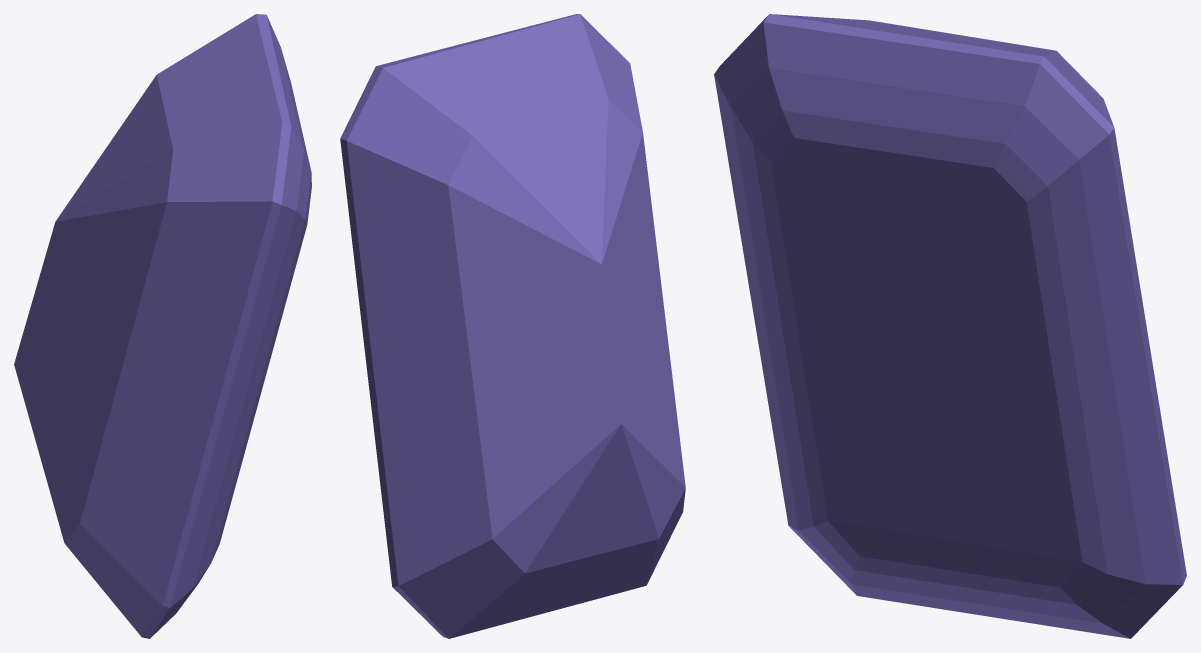
Rendered from TR4_8shapes_Emerald_Classic_Stone.001 2.glb.
3 renders of one model, left to right at view 1: azimuth 30°, elevation 25°; view 2: azimuth 150°, elevation 25°; view 3: azimuth 270°, elevation 25°, orthographic. The views are drawn at different scales.
Parts seen in each view (by area): view 1: TR4_8shapes_Emerald_Classic_Stone.001; view 2: TR4_8shapes_Emerald_Classic_Stone.001; view 3: TR4_8shapes_Emerald_Classic_Stone.001.
Part boxes in pixels (<box>): TR4_8shapes_Emerald_Classic_Stone.001: <box>14,14,311,638</box>; TR4_8shapes_Emerald_Classic_Stone.001: <box>340,14,685,638</box>; TR4_8shapes_Emerald_Classic_Stone.001: <box>714,14,1186,638</box>.
Bounding box in the file's own units: 0.3101 × 0.5914 × 0.3906.
